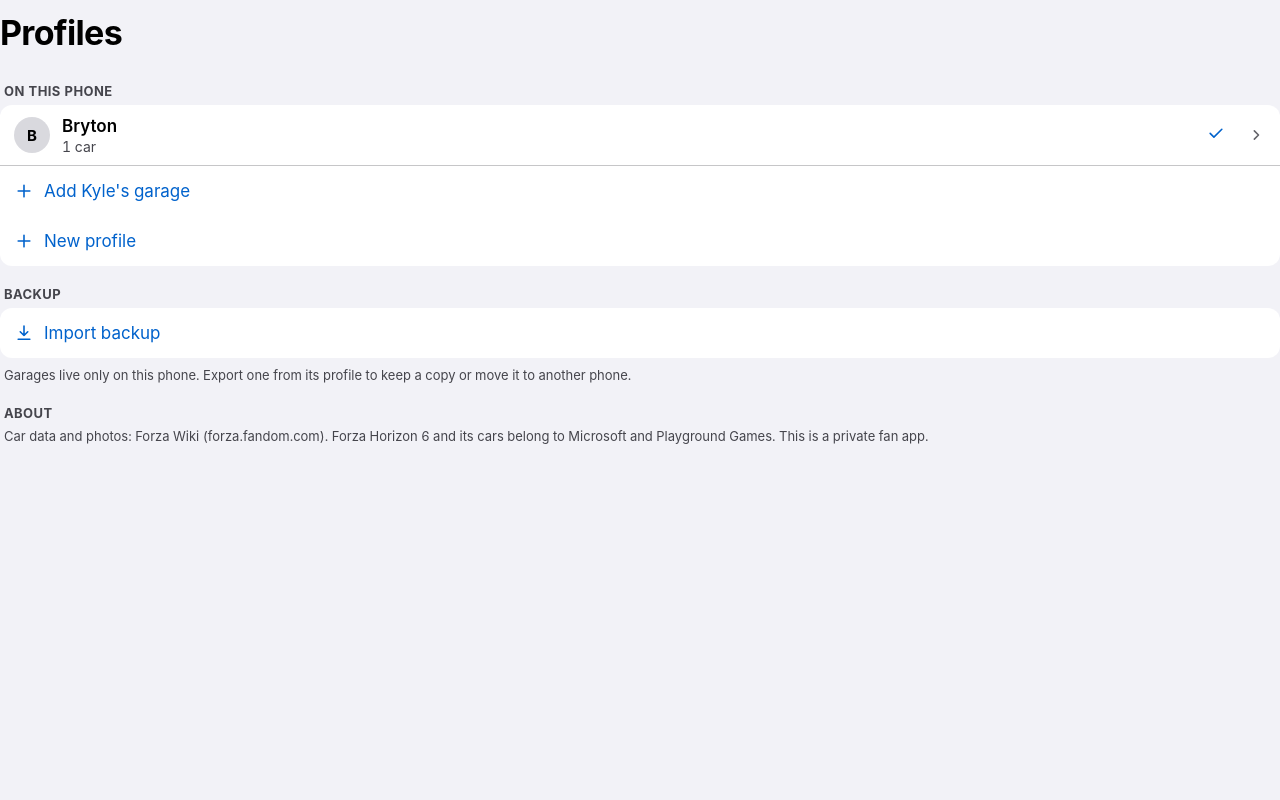
it: Export › says so when the share sheet fails
The width and height of the screenshot is (1280, 800).
Step 1. Click the button named "Edit Bryton" → (1256, 135), box [1232,105,1279,165]
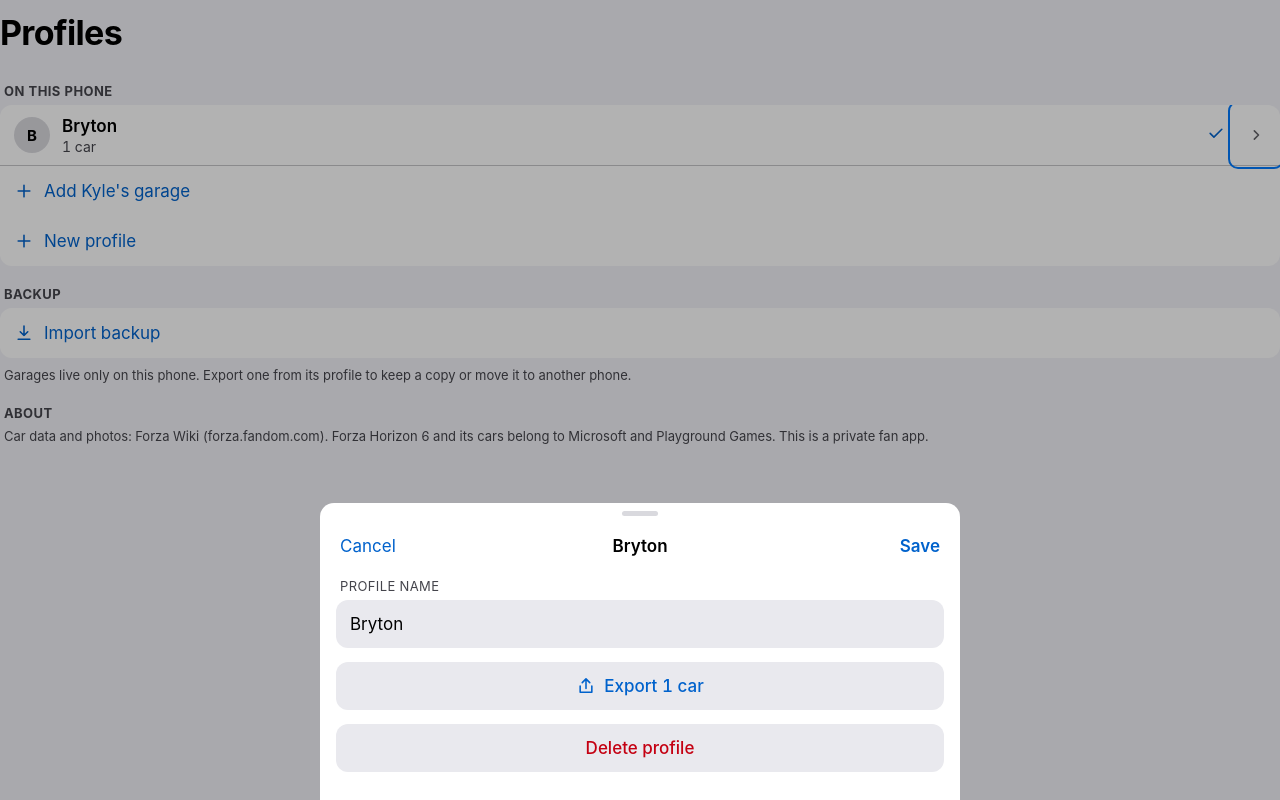
Step 2. Click the button "Export 1 car" → (640, 686), box [336,662,944,710]
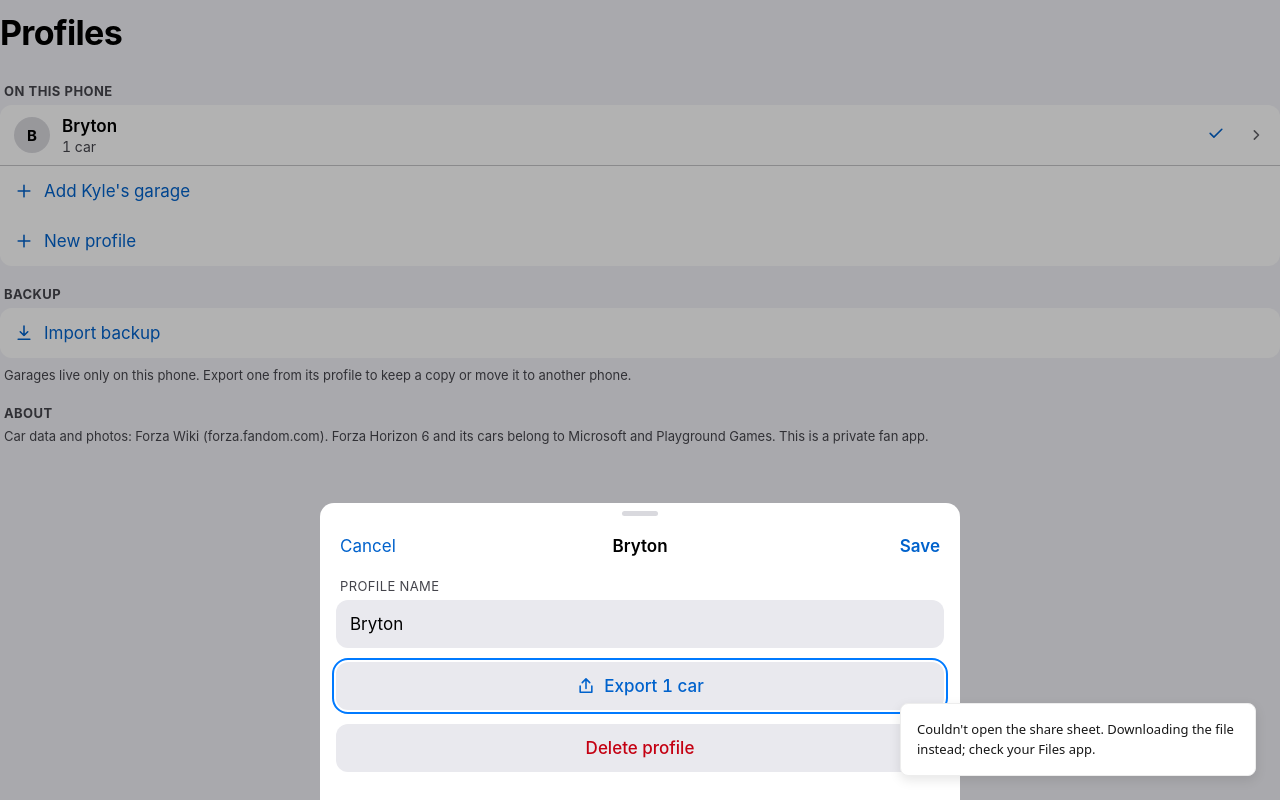
Now the text "Couldn't open the share sheet" is shown, box [917,720,1234,758]
